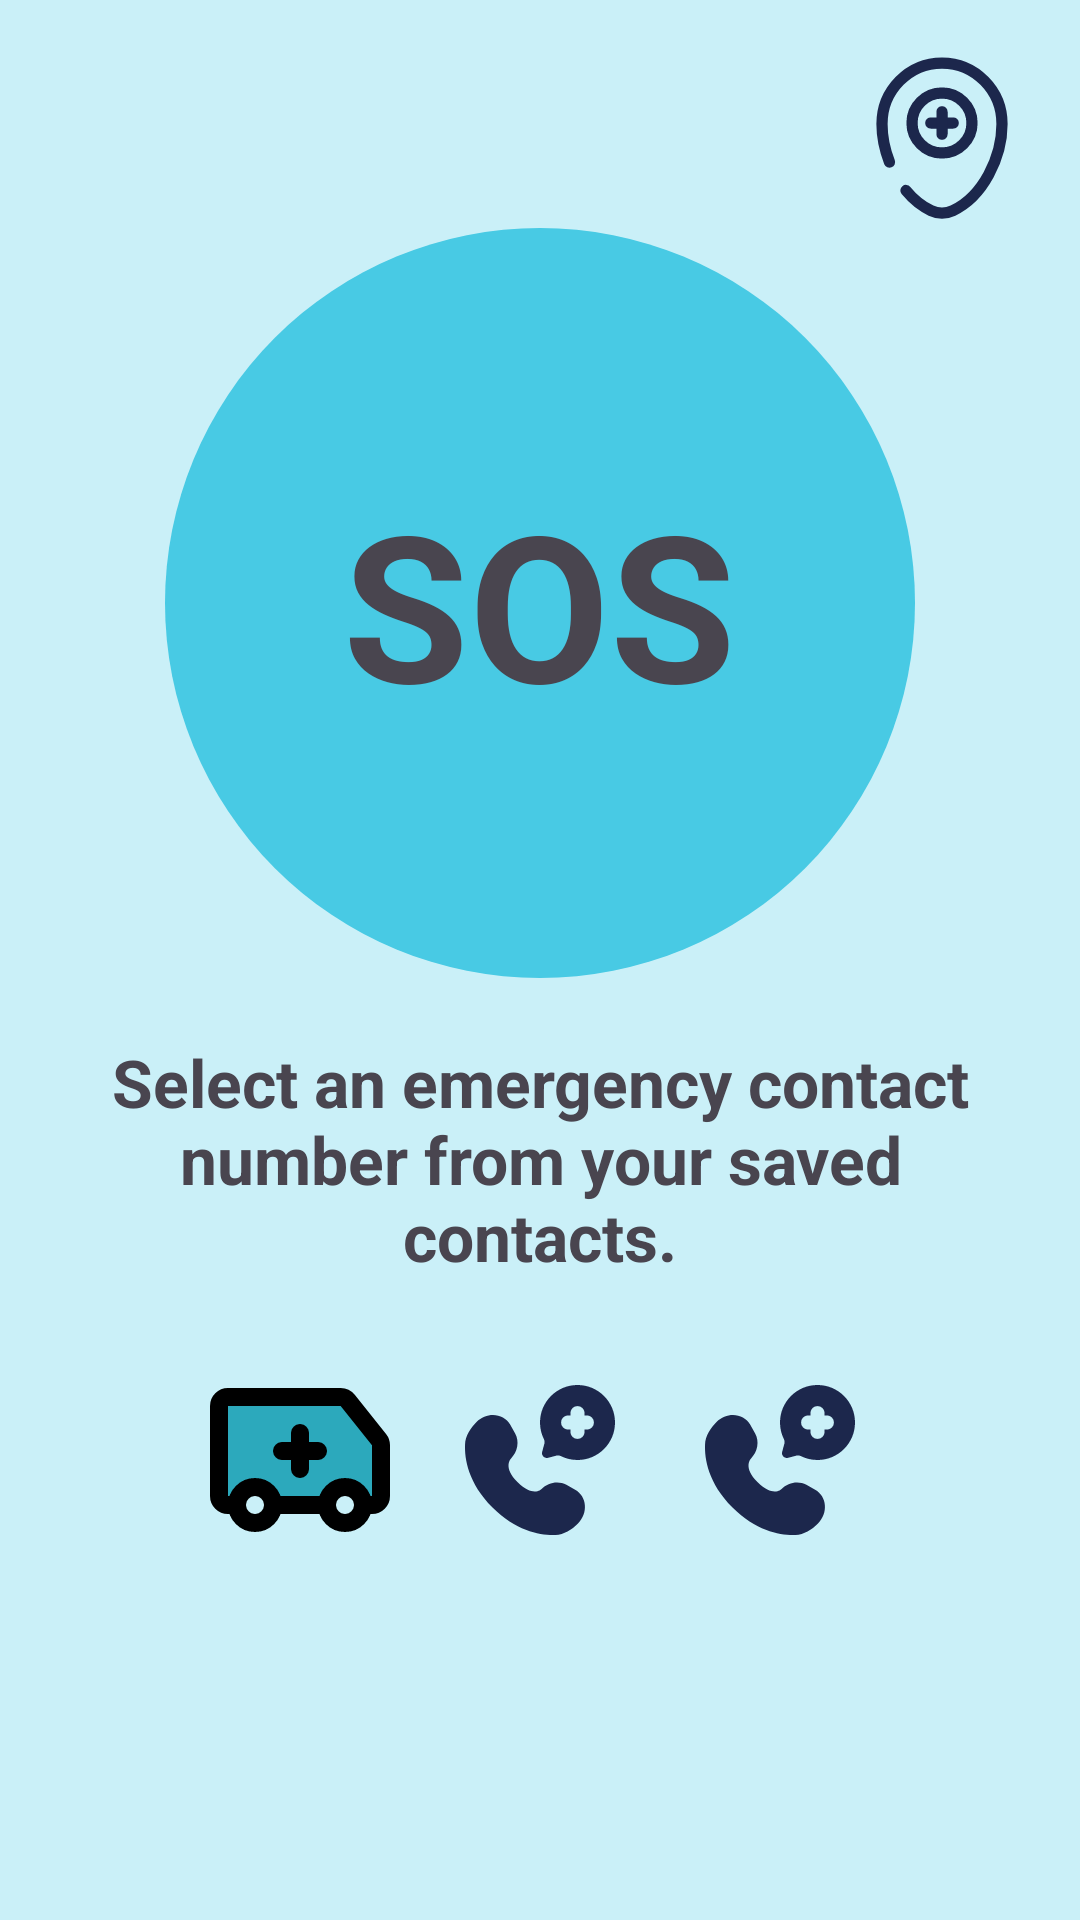

Screen size 1080x1920. Icon name, then its box in pixels as (x1, y1, x2, y2):
ambulance: (210, 1388, 390, 1532)
map point hospital: (876, 57, 1008, 219)
